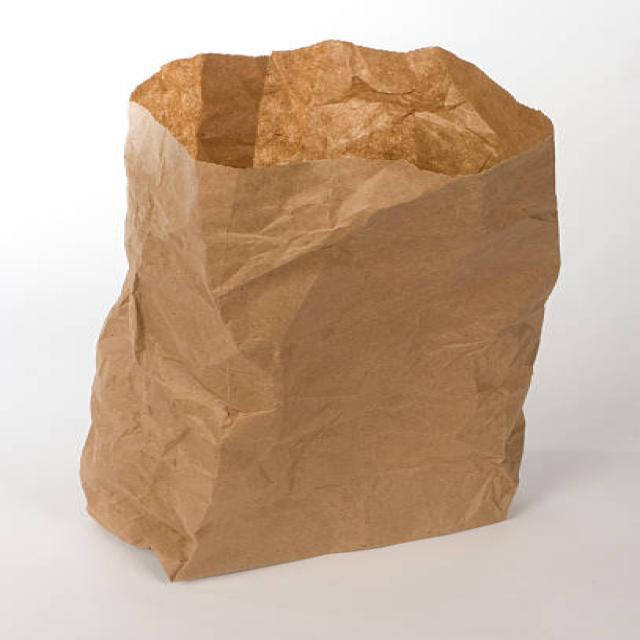electronic: (79, 39, 562, 582)
